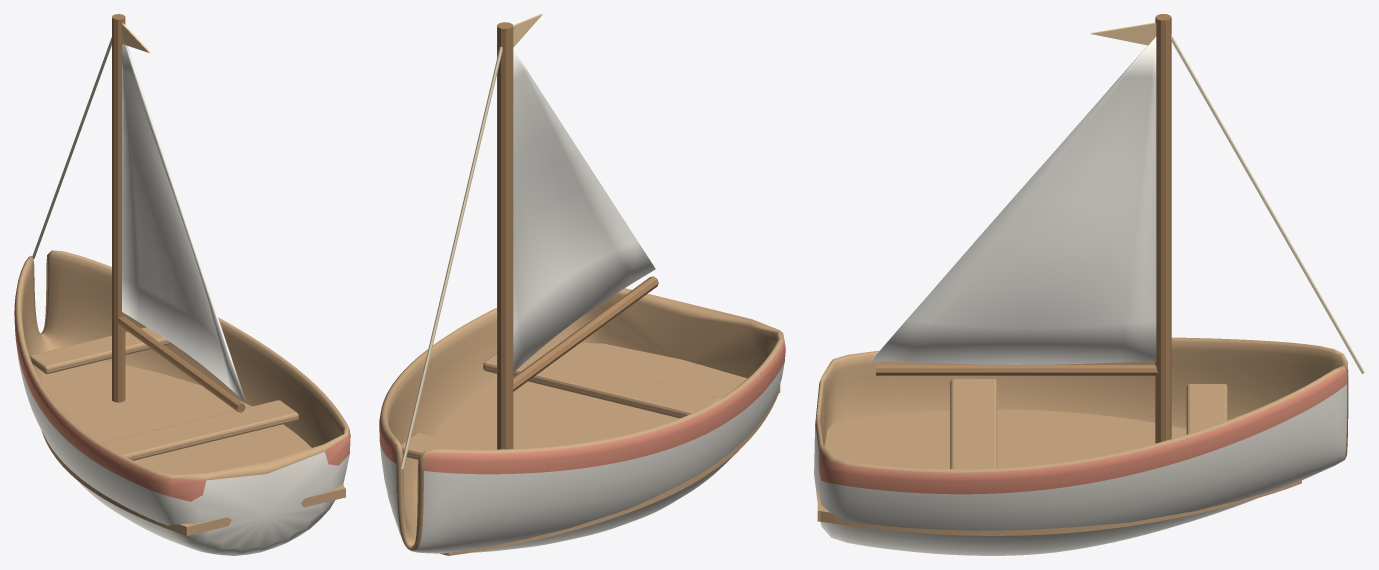
File: boat.glb
3 views of the same model, side by side, from view 1: azimuth 30°, elevation 25°; view 2: azimuth 150°, elevation 25°; view 3: azimuth 270°, elevation 25° (orthographic). The views are drawn at different scales.
Visible parts, largest first — view 1: Boat hull, Boat sail, Boat floor, Boat bench, Boat mast, Boat bench front, Boat boom, Boat stay; view 2: Boat hull, Boat sail, Boat floor, Boat mast, Boat bench, Boat boom, Boat stay, Boat bench front; view 3: Boat hull, Boat sail, Boat floor, Boat mast, Boat bench, Boat boom, Boat bench front, Boat stay, Boat flag.
Boxes of the visible parts, <box> form: Boat hull: <box>14,250,350,555</box>; Boat sail: <box>122,37,245,400</box>; Boat floor: <box>41,360,345,536</box>; Boat bench: <box>102,400,298,460</box>; Boat mast: <box>112,14,125,402</box>; Boat bench front: <box>30,327,170,373</box>; Boat boom: <box>116,316,245,412</box>; Boat stay: <box>32,37,111,259</box>; Boat hull: <box>379,288,785,553</box>; Boat sail: <box>513,49,655,372</box>; Boat floor: <box>414,342,780,555</box>; Boat mast: <box>497,22,513,449</box>; Boat bench: <box>483,352,721,418</box>; Boat boom: <box>513,276,658,391</box>; Boat stay: <box>400,46,502,469</box>; Boat bench front: <box>401,432,488,459</box>; Boat hull: <box>814,337,1348,555</box>; Boat sail: <box>871,37,1156,364</box>; Boat floor: <box>817,409,1301,535</box>; Boat mast: <box>1155,14,1171,443</box>; Boat bench: <box>950,379,996,468</box>; Boat boom: <box>876,365,1158,375</box>; Boat bench front: <box>1186,384,1227,434</box>; Boat stay: <box>1171,34,1364,373</box>; Boat flag: <box>1090,22,1156,45</box>.
Size of the model in its own units: 2.13 by 3.92 by 3.78.
